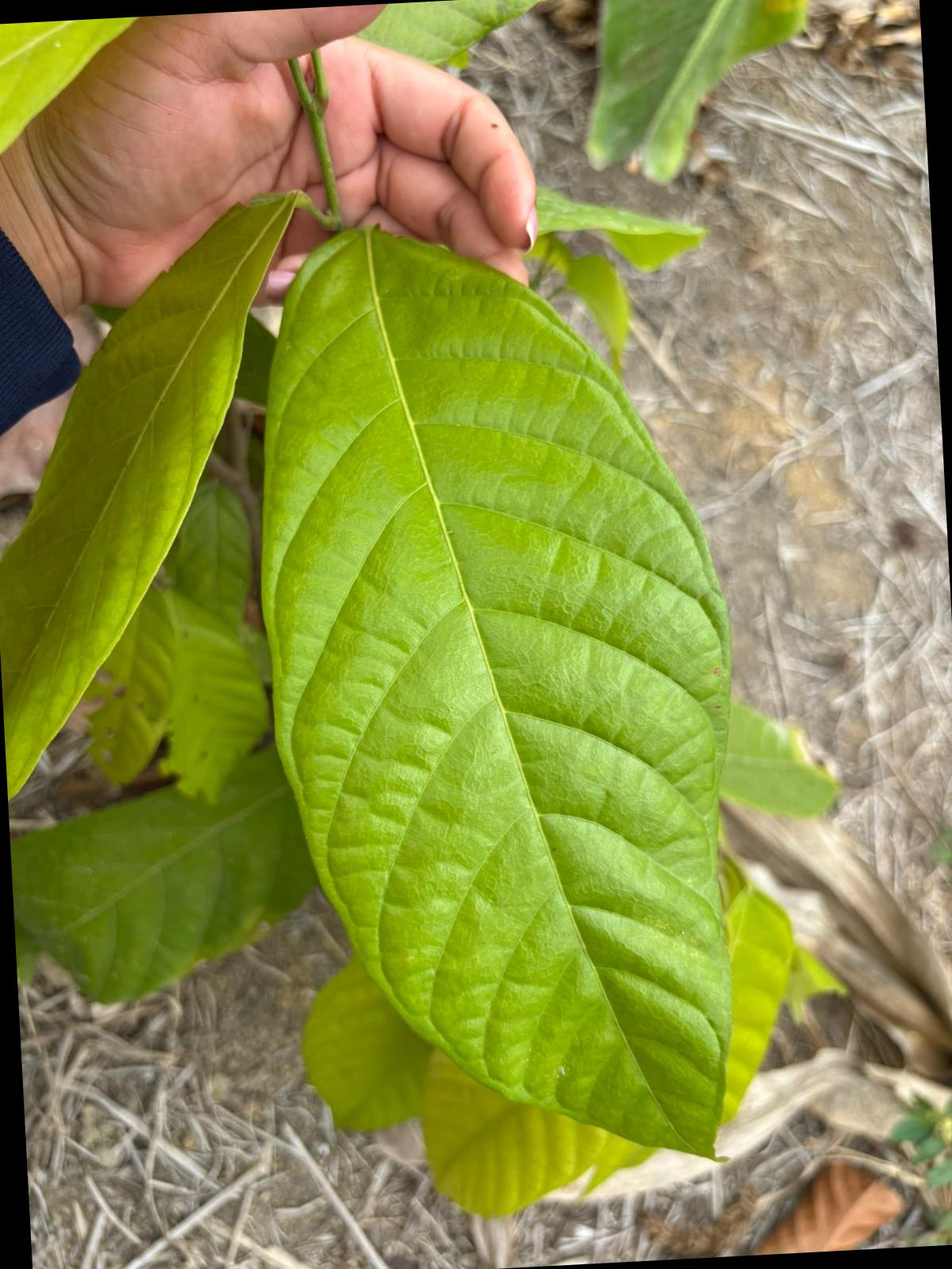Nitrogeno: (264, 230, 730, 1154), (0, 196, 291, 797)
